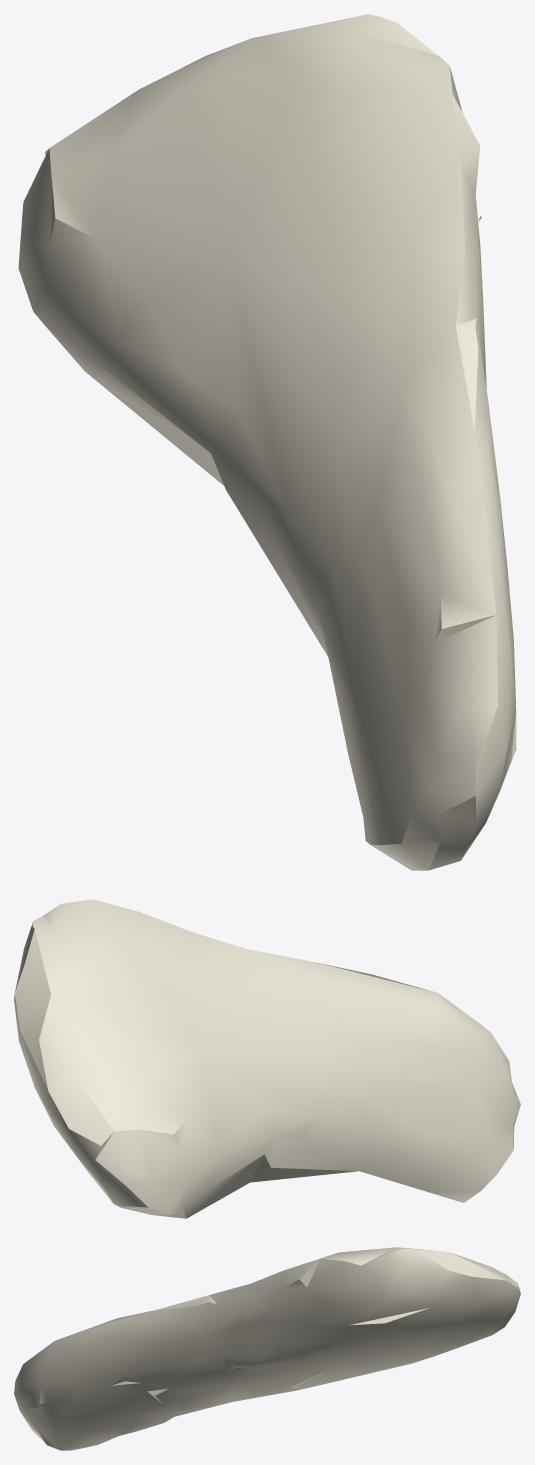
The model's file is fma44289_mm1356m.glb.
3 views of the same model, one above another, from view 1: azimuth 30°, elevation 25°; view 2: azimuth 150°, elevation 25°; view 3: azimuth 270°, elevation 25° (orthographic). The views are drawn at different scales.
Parts seen in each view (by area): view 1: FMA44289_MM1356M; view 2: FMA44289_MM1356M; view 3: FMA44289_MM1356M.
Boxes of the visible parts, x1,y1,x2,y2 form: FMA44289_MM1356M: (18,14,516,870); FMA44289_MM1356M: (14,899,520,1218); FMA44289_MM1356M: (14,1247,520,1450).
Size of the model in its own units: 0.00608 by 0.00901 by 0.0152.
